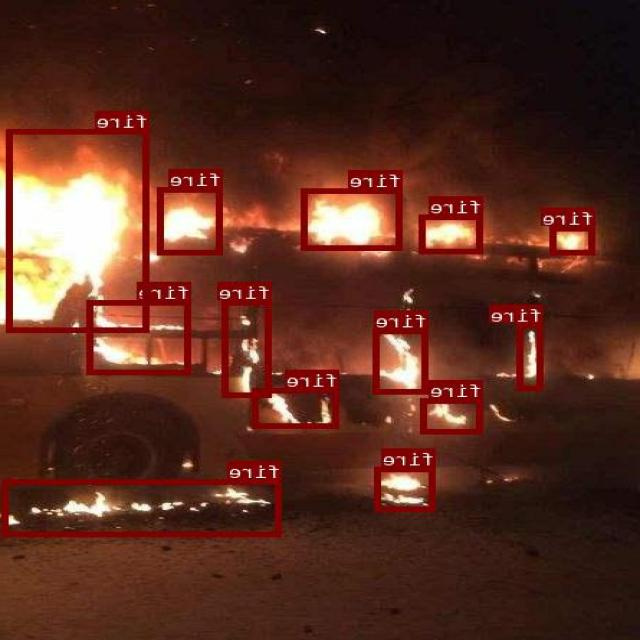fire: (8, 128, 150, 332), (4, 479, 282, 536), (89, 300, 193, 373), (302, 188, 404, 248), (224, 300, 272, 396), (159, 187, 224, 254), (374, 327, 429, 393), (254, 387, 340, 428), (377, 466, 437, 511), (420, 214, 484, 252), (422, 397, 484, 432), (519, 323, 545, 390), (551, 226, 597, 254)
